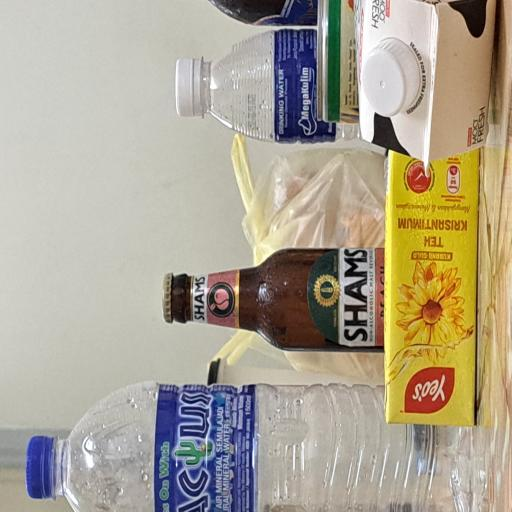can: (293, 421, 384, 476)
drink carton: (252, 471, 384, 512)
glass bottle: (119, 214, 199, 512)
plastic bottle: (0, 68, 98, 512), (275, 272, 363, 481)
plastic bottle cap: (9, 34, 58, 72), (296, 481, 356, 512), (296, 234, 341, 269)
